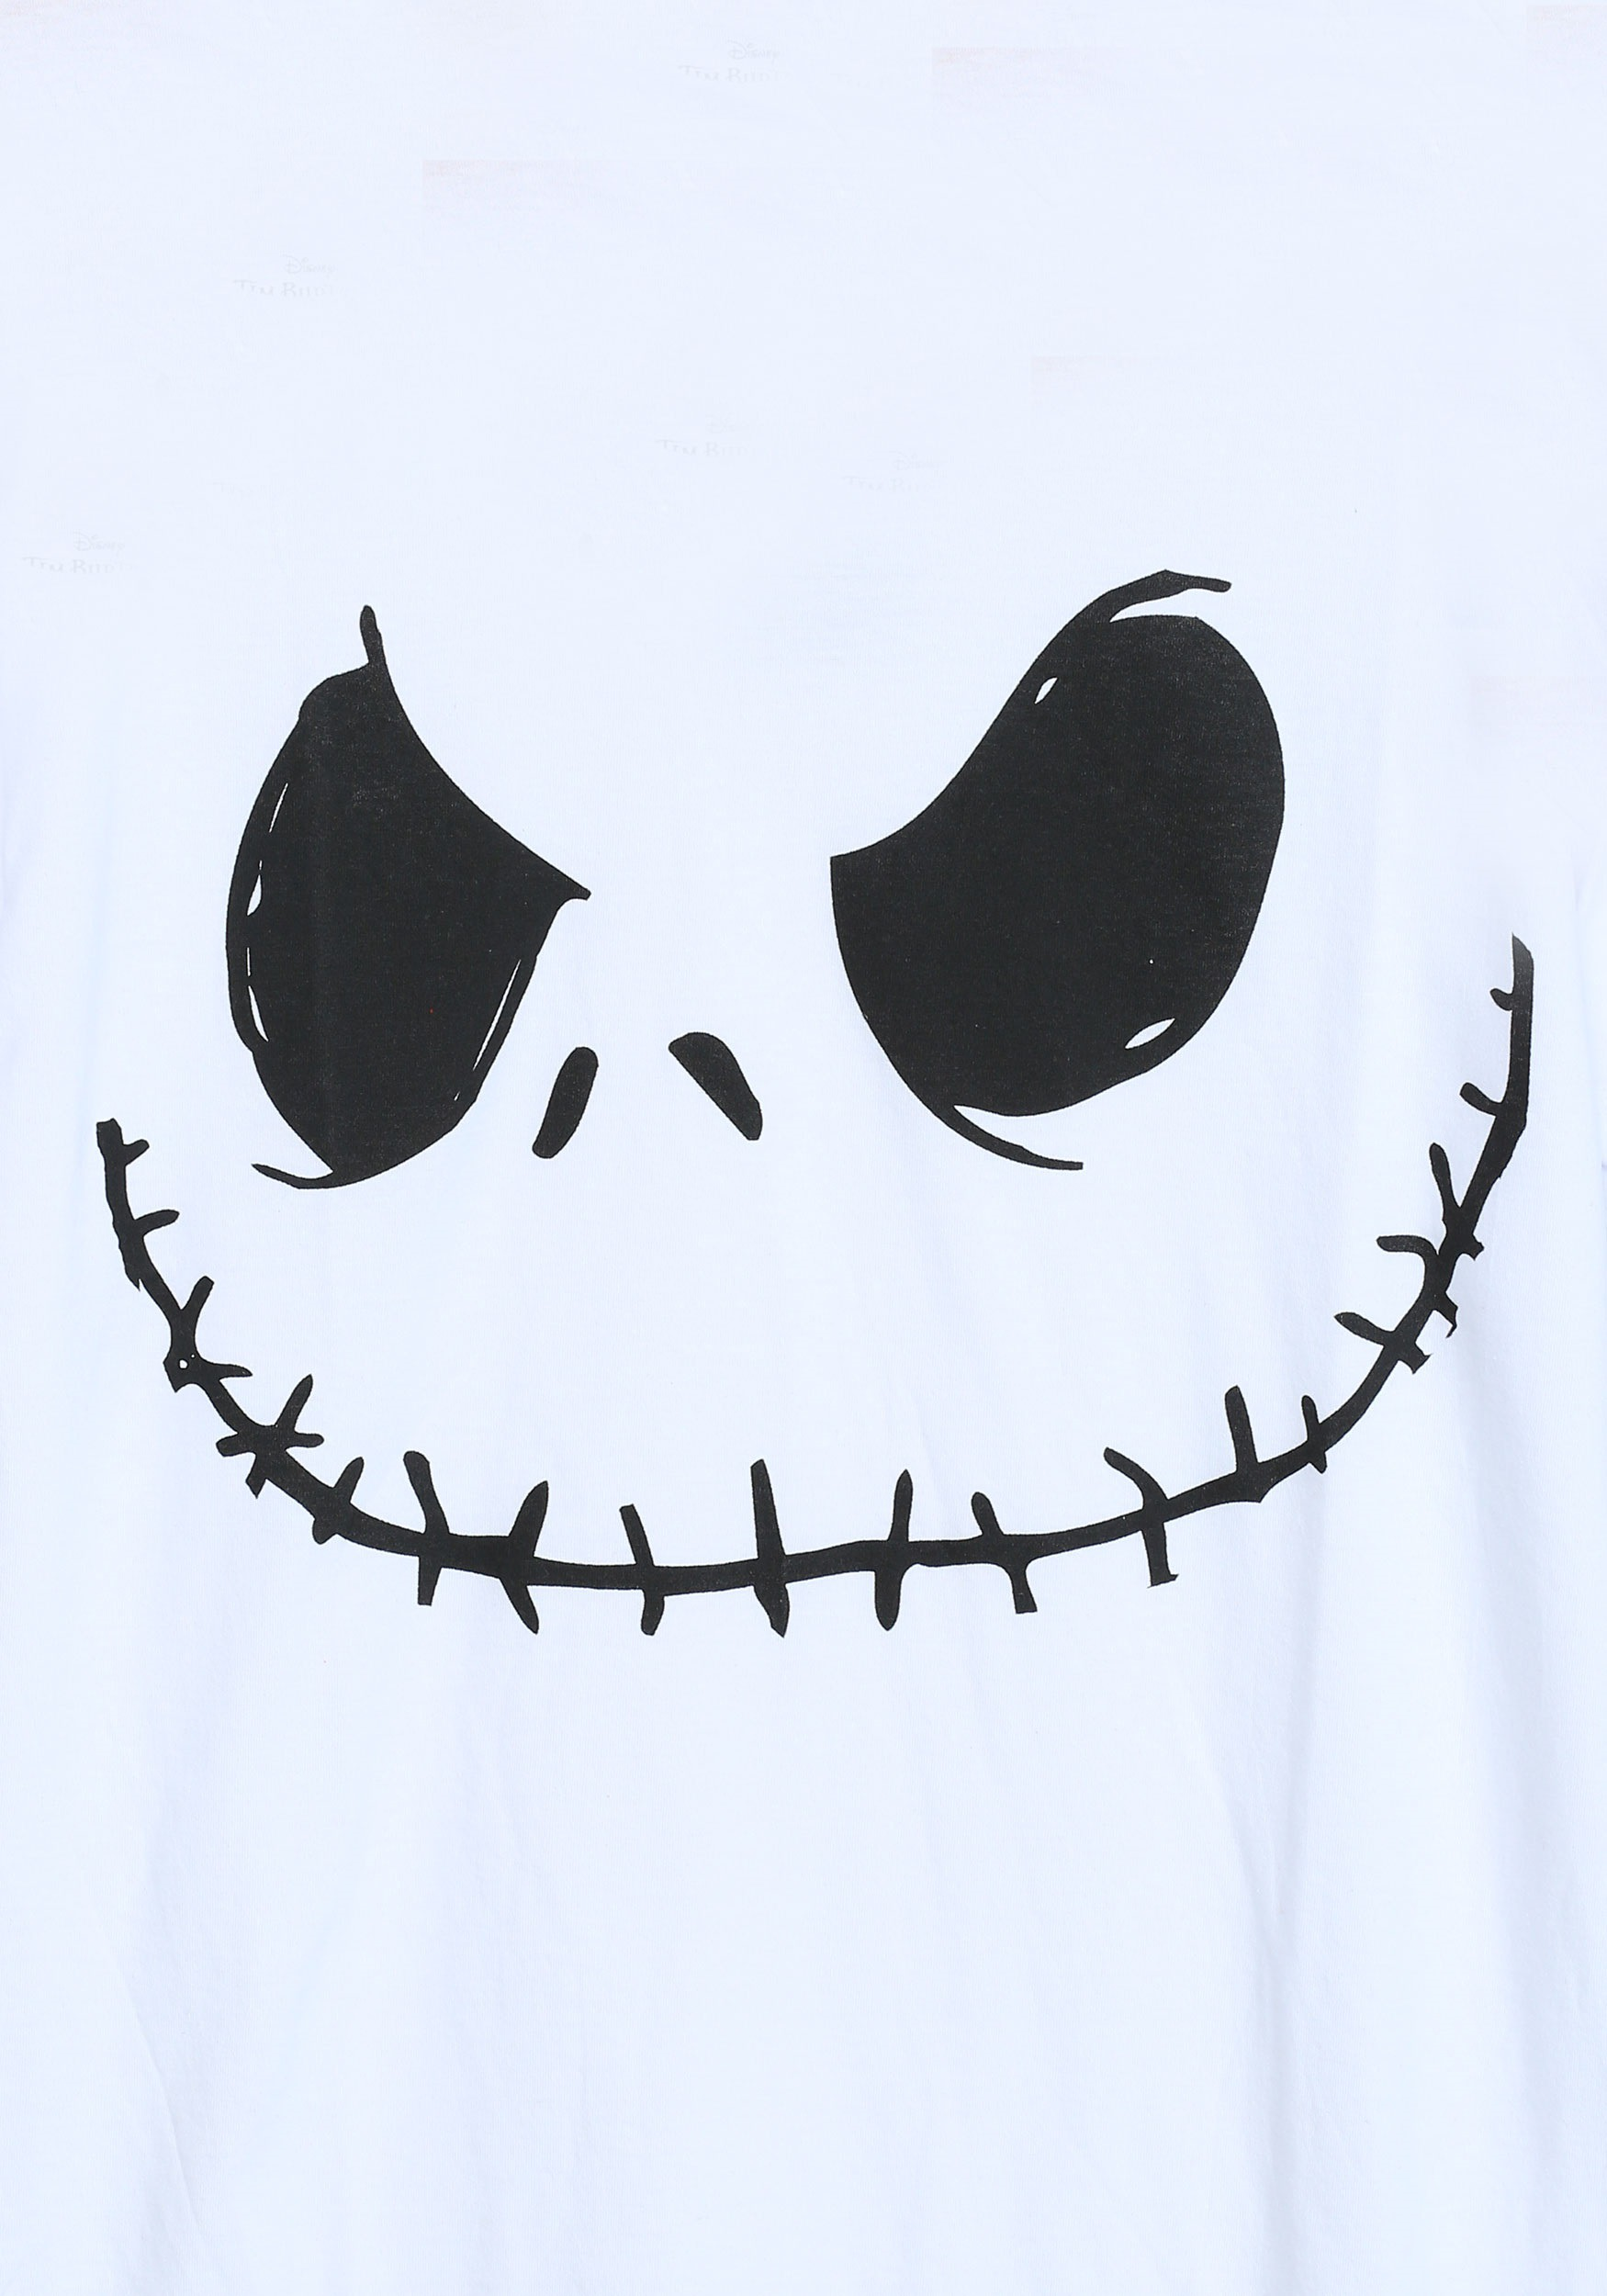Jack Skellington: (94, 555, 1541, 1657)
